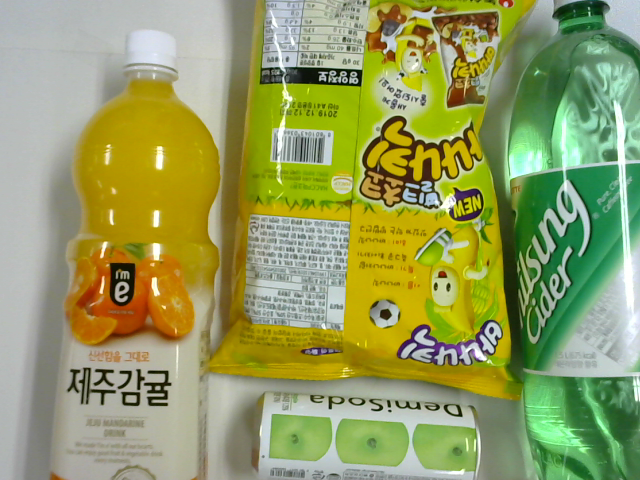Banana_Kick: (217, 10, 523, 408)
Chilseong_Cider_1.5L: (499, 2, 636, 480)
Demisoda_Apple_Can_250ml: (251, 392, 482, 480)
Jeju_Tangerine_1.5L: (51, 28, 214, 480)
